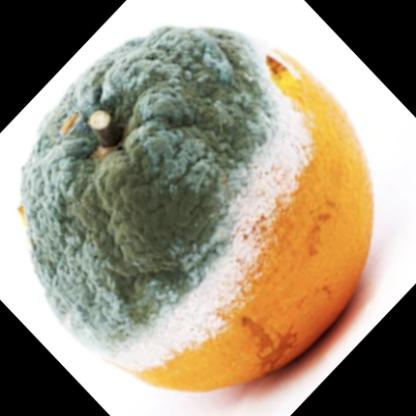rotten: (20, 24, 376, 396)
